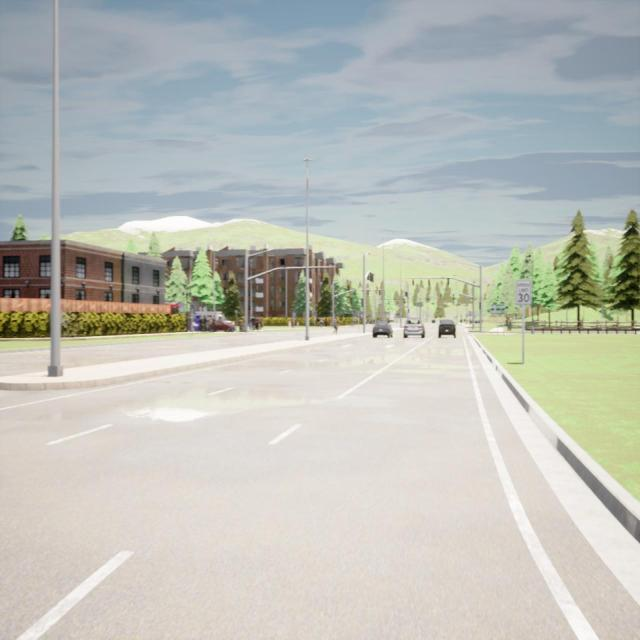Pedestrian: (331, 317, 339, 335), (206, 313, 212, 331), (202, 314, 207, 331), (238, 316, 243, 332), (251, 314, 256, 329), (198, 314, 202, 331), (212, 314, 216, 331), (320, 315, 324, 331), (261, 314, 264, 328), (325, 316, 328, 326)
Traffic_Signs: (516, 280, 531, 304), (490, 305, 504, 314)
Vehicle: (194, 311, 235, 332), (404, 317, 425, 338), (373, 320, 393, 338), (438, 320, 456, 338)
traffic_light: (412, 277, 414, 286), (370, 273, 372, 281), (479, 302, 481, 309), (428, 278, 430, 285), (447, 278, 449, 285), (367, 274, 369, 280), (372, 274, 373, 282)
